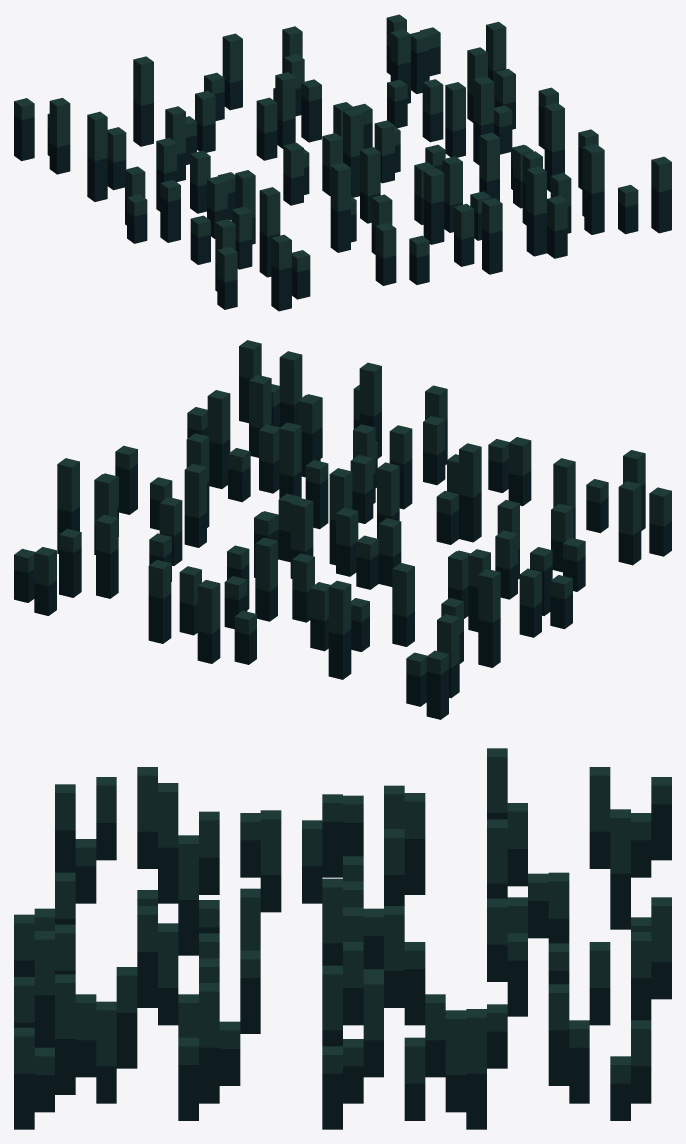
The model's file is Ground_Grass.glb.
3 renders of one model, top to bottom at view 1: azimuth 30°, elevation 25°; view 2: azimuth 150°, elevation 25°; view 3: azimuth 270°, elevation 25°, orthographic. The views are drawn at different scales.
Visible parts, largest first — view 1: Ground_Grass; view 2: Ground_Grass; view 3: Ground_Grass.
Boxes of the visible parts, x1=… form: Ground_Grass: x1=14, y1=14, x2=671, y2=311; Ground_Grass: x1=14, y1=340, x2=671, y2=719; Ground_Grass: x1=14, y1=748, x2=671, y2=1129.
Size of the model in its own units: 0.8 by 0.15 by 0.8.
